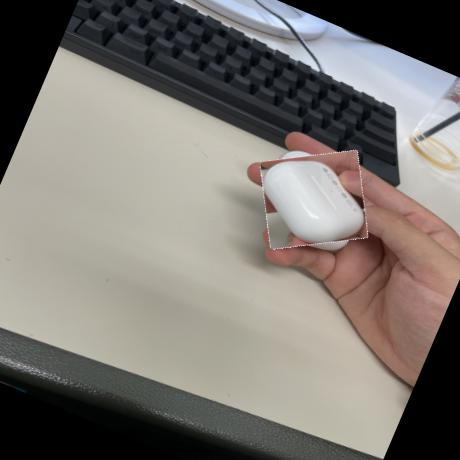airpod3: (240, 128, 386, 270)
